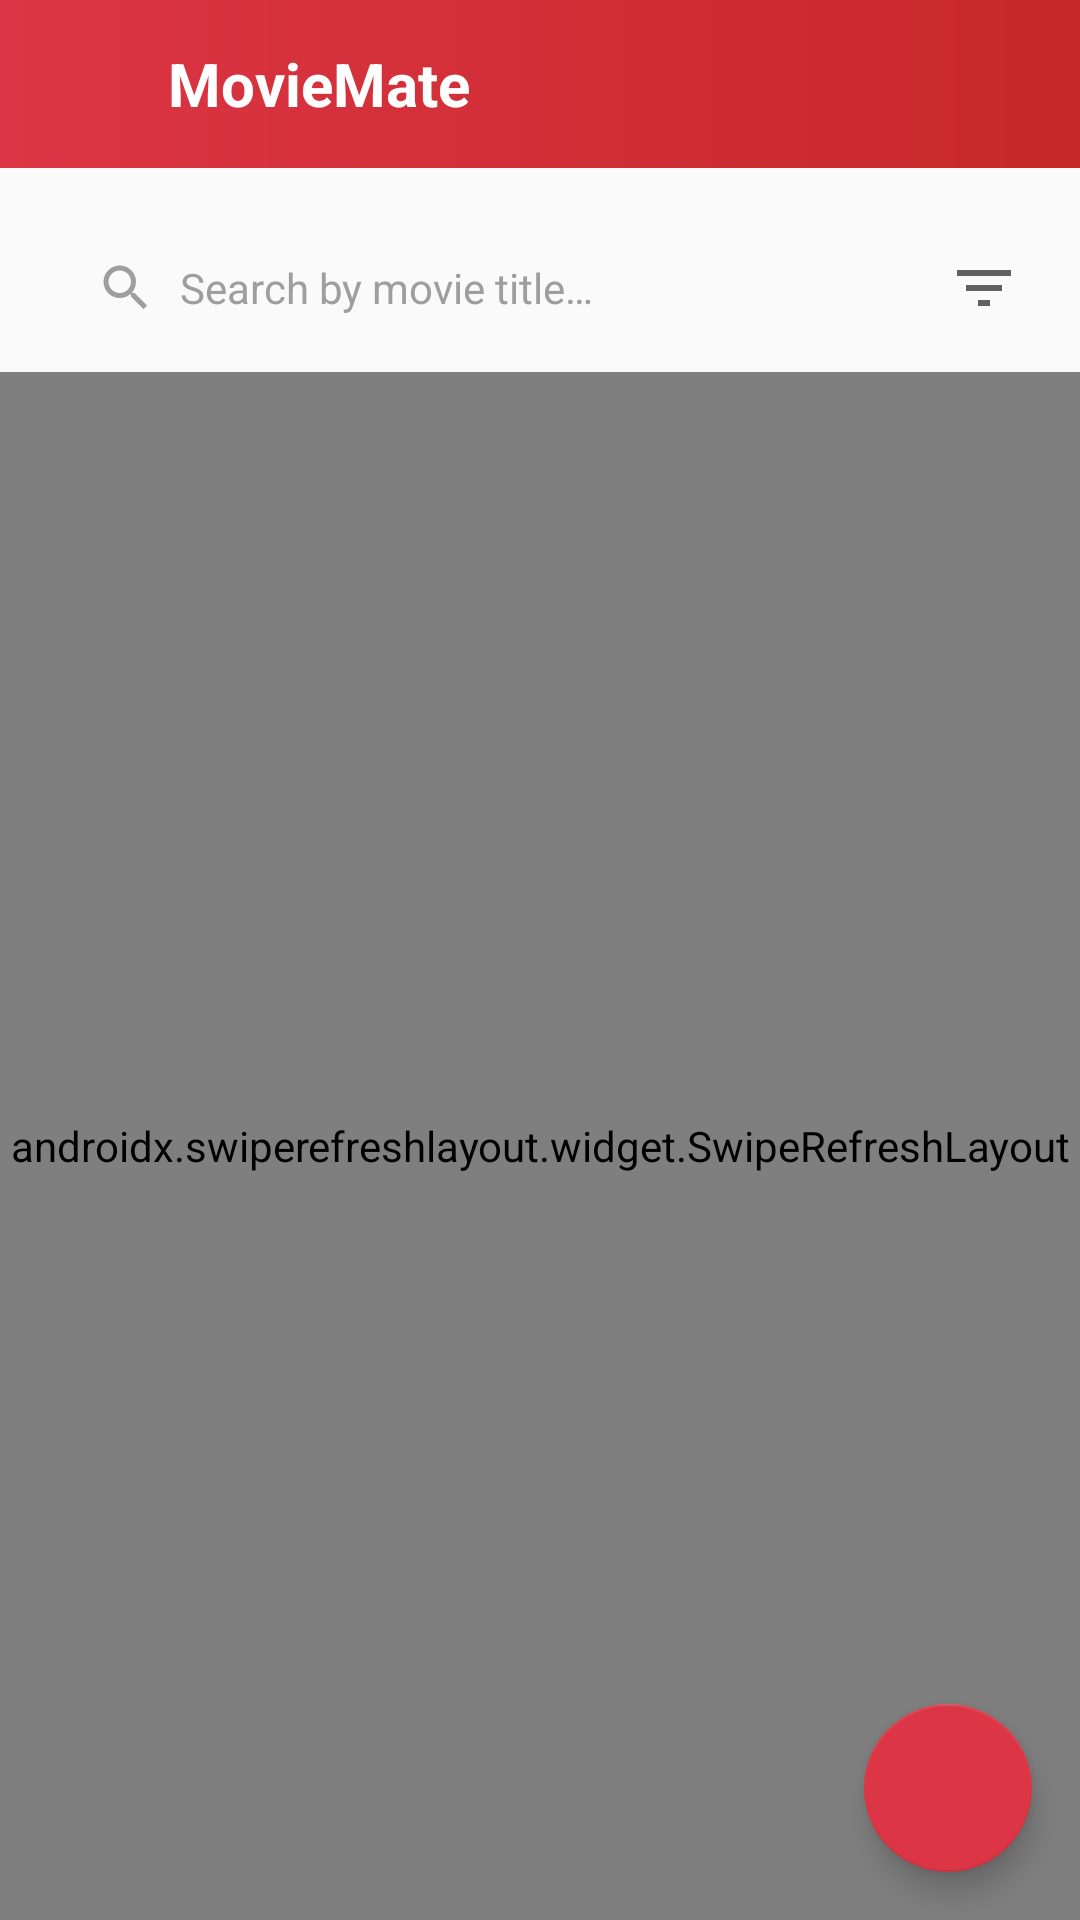

Where to tap for icons on this 1080 × 1920 app screen, as (x=x, y=y):
Filter: (x=984, y=288)
